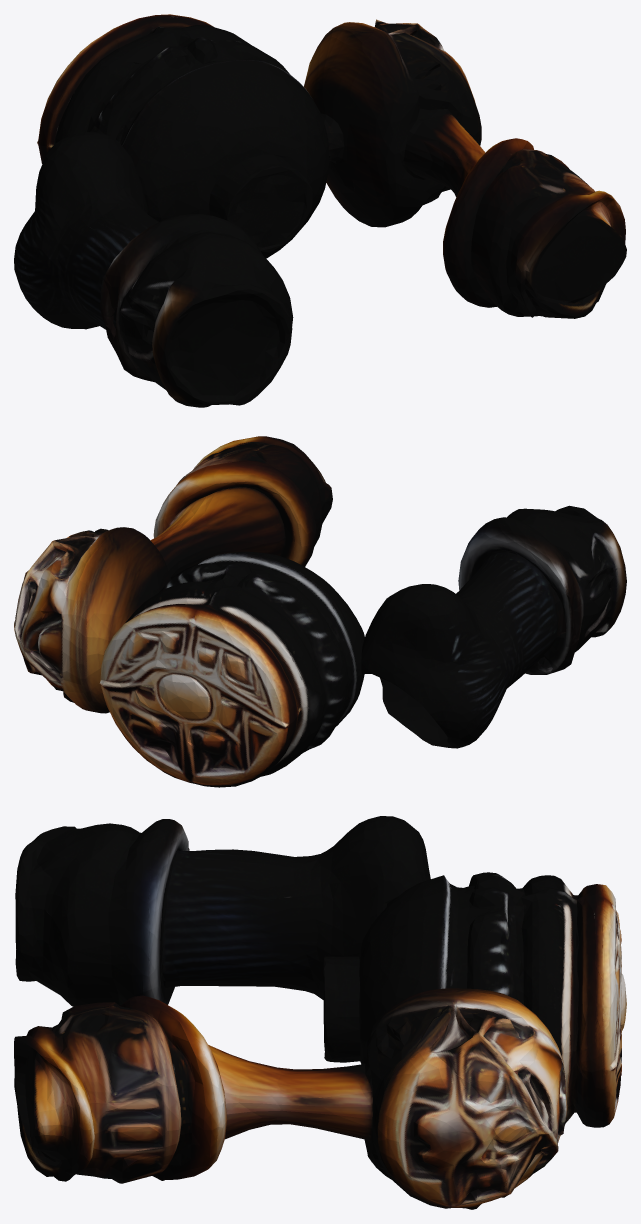
Rendered from wooden-massage-roller-art-deco.jpeg.glb.
The picture shows the model from 3 angles, top to bottom: view 1: azimuth 30°, elevation 25°; view 2: azimuth 150°, elevation 25°; view 3: azimuth 270°, elevation 25°; orthographic projection. The views are drawn at different scales.
Parts seen in each view (by area): view 1: world; view 2: world; view 3: world.
Part boxes in pixels (left/top/right/bottom): world: left=14, top=14, right=626, bottom=407; world: left=14, top=436, right=626, bottom=787; world: left=14, top=816, right=626, bottom=1209.
Bounding box in the file's own units: 0.9986 × 0.4183 × 0.9946.
Materials: 1 (1 with a texture image).
